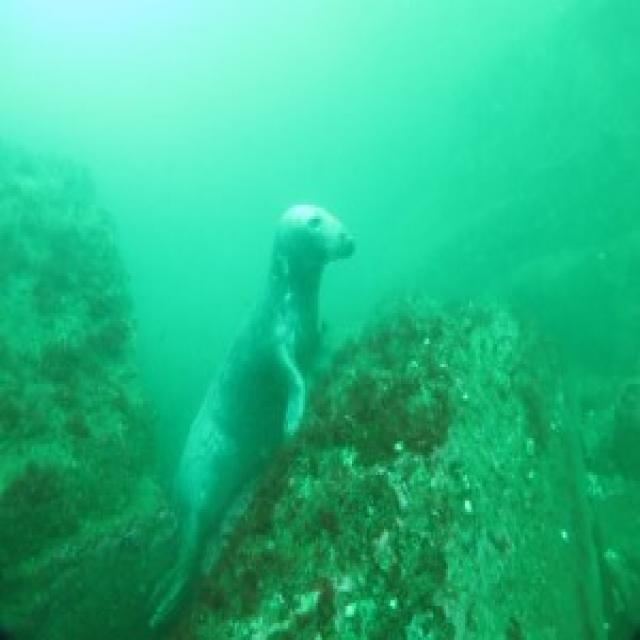Seal: (138, 193, 368, 602)
